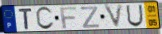C: (35, 6, 56, 31)
F: (59, 6, 78, 29)
T: (18, 8, 34, 31)
U: (126, 4, 145, 28)
V: (103, 3, 125, 30)
Z: (80, 6, 100, 29)
